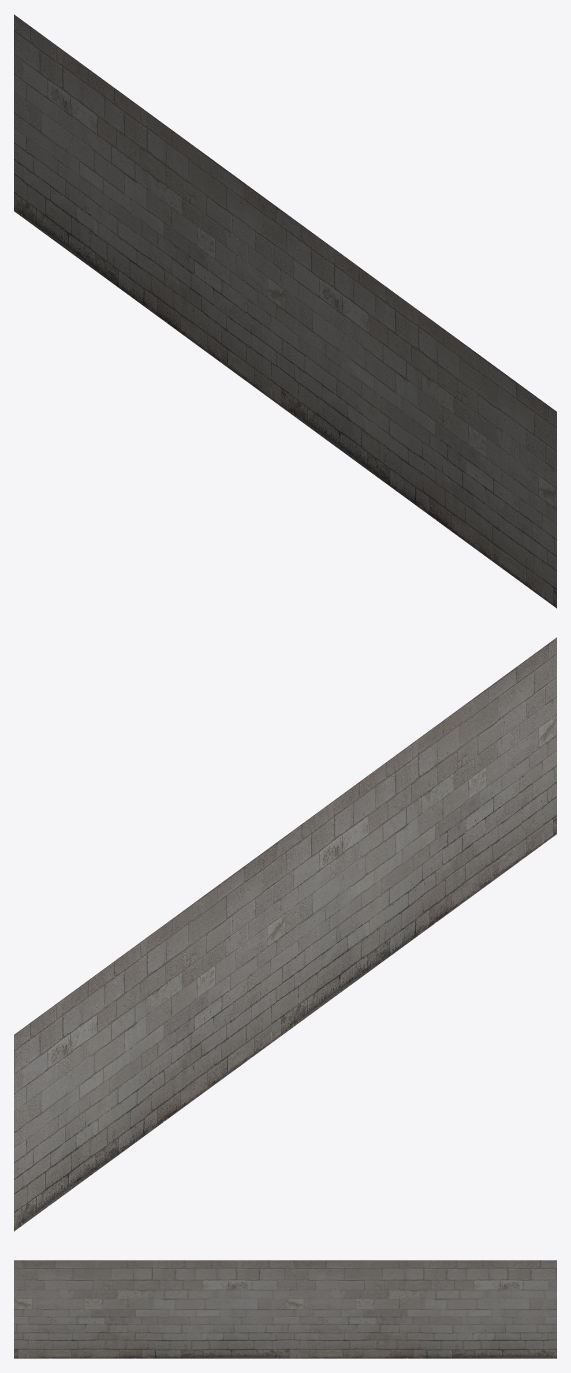
Rendered from Gradient_SideWall_4M.fbx.
3 views of the same model, one above another, from view 1: azimuth 30°, elevation 25°; view 2: azimuth 150°, elevation 25°; view 3: azimuth 270°, elevation 25° (orthographic). The views are drawn at different scales.
Parts seen in each view (by area): view 1: Gradient_SideWall_4M; view 2: Gradient_SideWall_4M; view 3: Gradient_SideWall_4M.
Boxes of the visible parts, left/top/right/bottom form: Gradient_SideWall_4M: left=14, top=14, right=556, bottom=608; Gradient_SideWall_4M: left=14, top=637, right=556, bottom=1231; Gradient_SideWall_4M: left=14, top=1260, right=556, bottom=1358.
Size of the model in its own units: 0 by 4 by 20.
